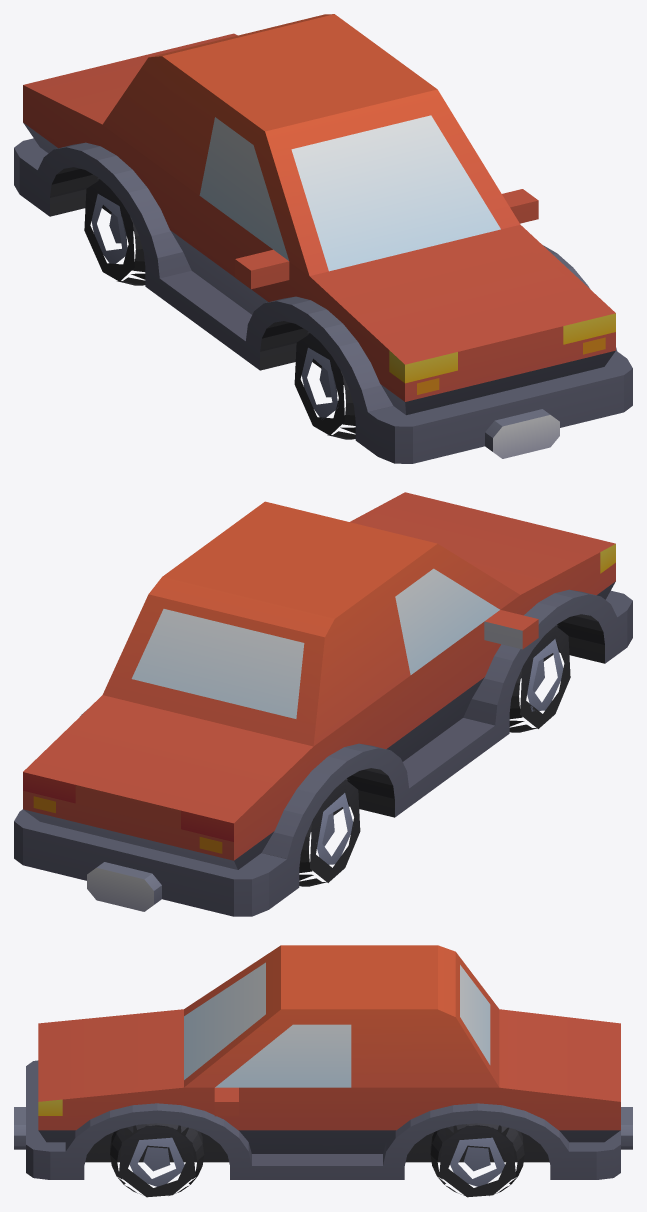
The model's file is car_sedan.glb.
3 views of the same model, one above another, from view 1: azimuth 30°, elevation 25°; view 2: azimuth 150°, elevation 25°; view 3: azimuth 270°, elevation 25° (orthographic). The views are drawn at different scales.
Parts seen in each view (by area): view 1: paint, body, wheel-back-right, wheel-front-right; view 2: paint, body, wheel-front-right, wheel-back-right; view 3: paint, body, wheel-back-left, wheel-front-left.
Part boxes in pixels (x1,y1,x2,y2): paint: (23, 14, 615, 401); body: (14, 115, 632, 463); wheel-back-right: (84, 177, 145, 285); wheel-front-right: (294, 331, 355, 439); paint: (23, 492, 615, 860); body: (14, 544, 632, 916); wheel-front-right: (509, 624, 570, 732); wheel-back-right: (299, 778, 360, 886); paint: (38, 945, 620, 1130); body: (14, 962, 632, 1179); wheel-back-left: (430, 1123, 524, 1197); wheel-front-left: (110, 1123, 204, 1197).
Size of the model in its own units: 1.8 by 1.45 by 4.4.
